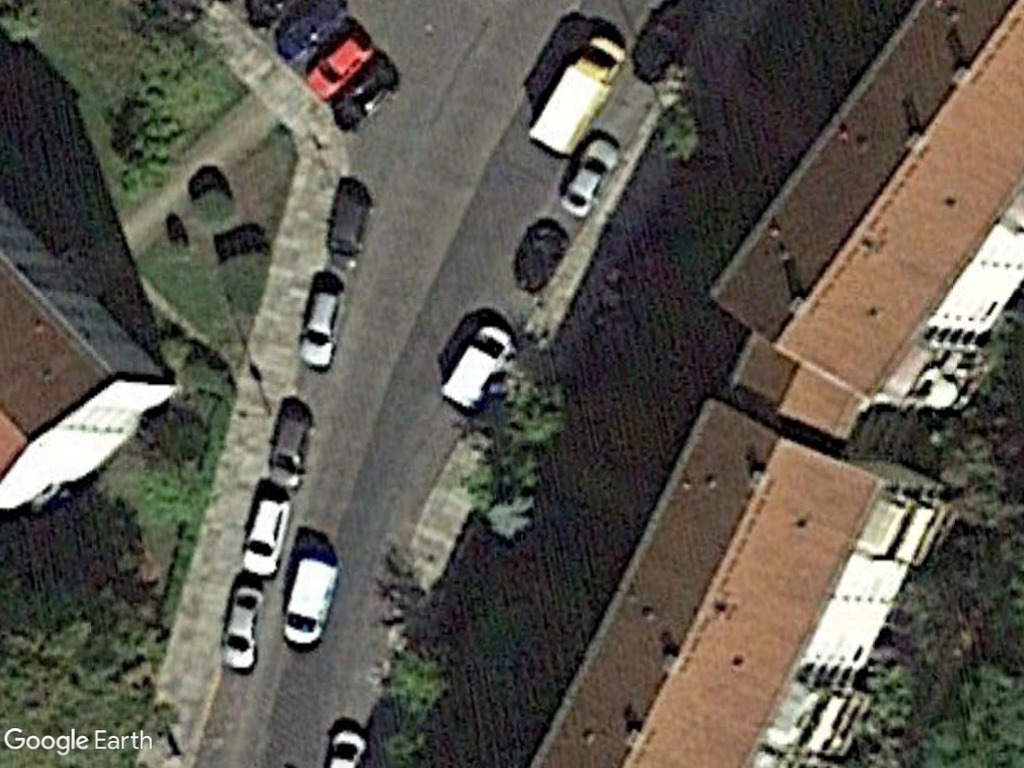car: (546, 130, 640, 224), (258, 395, 330, 503), (292, 266, 353, 389), (213, 581, 265, 674)
truck: (521, 25, 624, 166)
van: (426, 315, 525, 418), (271, 547, 346, 652)
